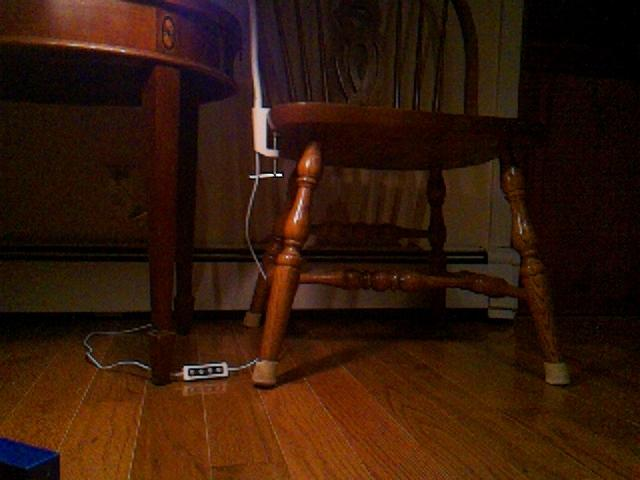blue: (1, 435, 62, 480)
